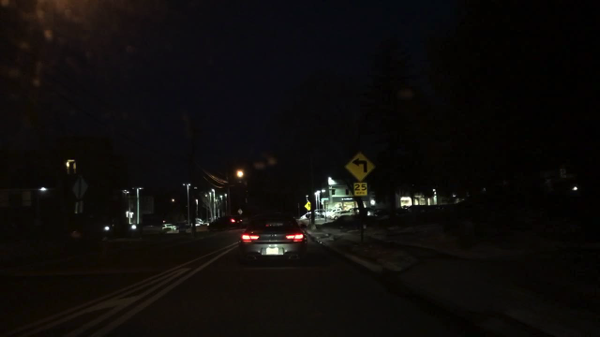car: (237, 213, 308, 265), (211, 214, 245, 232), (323, 207, 342, 219), (184, 220, 210, 228), (330, 210, 349, 219), (419, 205, 434, 213), (366, 206, 378, 216), (162, 223, 179, 230), (374, 211, 390, 218), (299, 213, 314, 220), (320, 208, 331, 217), (407, 204, 419, 212), (396, 205, 407, 213), (349, 206, 361, 213), (196, 218, 206, 225), (313, 210, 324, 216), (204, 217, 214, 223), (435, 204, 446, 209)
traffic sign: (343, 150, 375, 179), (71, 173, 87, 198), (352, 181, 367, 196), (74, 201, 84, 213), (304, 201, 312, 211), (236, 207, 243, 214)
